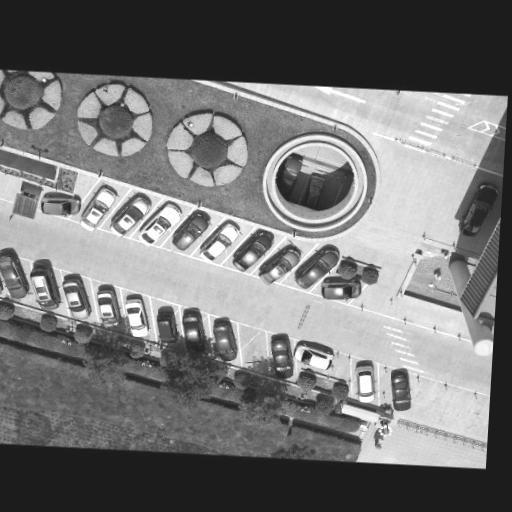busy: (294, 246, 338, 293), (108, 192, 150, 237), (257, 244, 300, 285), (140, 202, 180, 246), (199, 219, 238, 264), (232, 229, 268, 275), (170, 210, 207, 254), (292, 342, 341, 375), (24, 261, 60, 305), (82, 183, 116, 228), (0, 248, 31, 297), (385, 367, 415, 415), (209, 318, 241, 361), (266, 334, 296, 378), (314, 273, 358, 302), (120, 294, 151, 333), (59, 274, 89, 314), (348, 360, 378, 400), (92, 286, 121, 324), (36, 194, 78, 218), (154, 306, 179, 342), (179, 309, 206, 342)
free: (243, 330, 272, 358)
